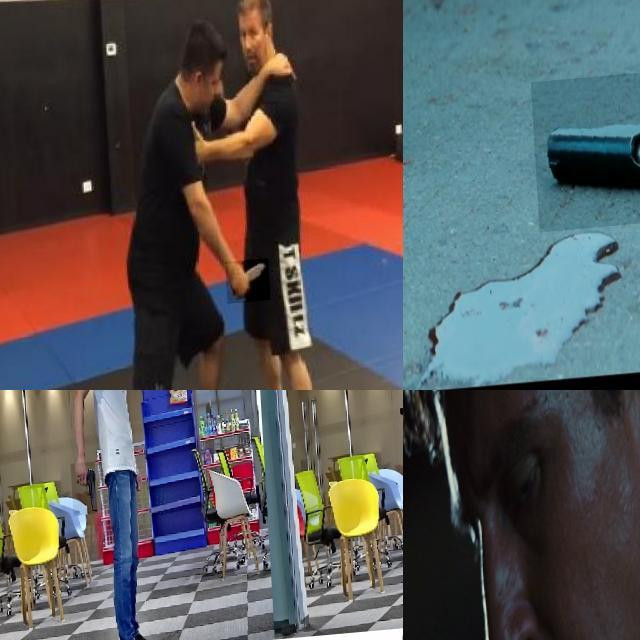-: (220, 266, 264, 312)
gun-knife-thesis - v11 Yolov5 augmented: (527, 62, 640, 235), (69, 464, 95, 518), (397, 407, 403, 434)
